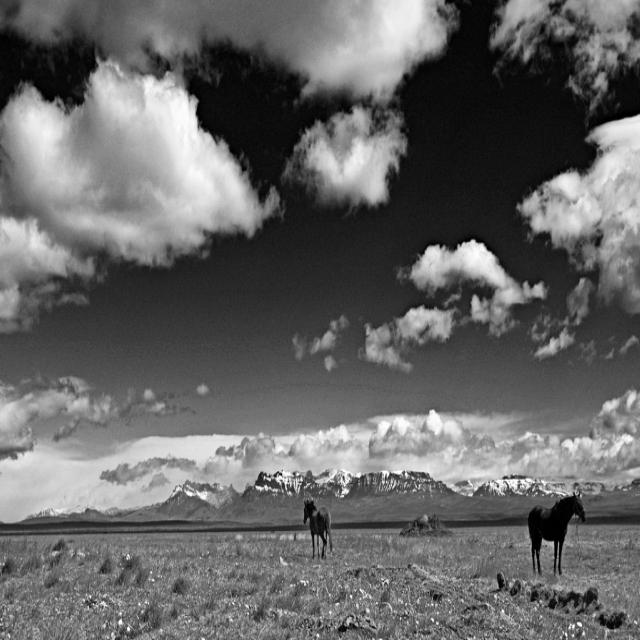Horse: (525, 492, 589, 581), (303, 499, 335, 563)
